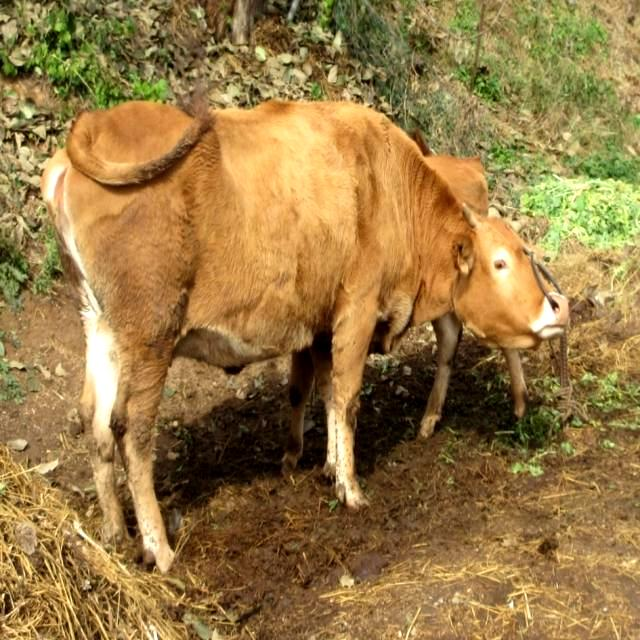COW: (42, 101, 568, 571)
